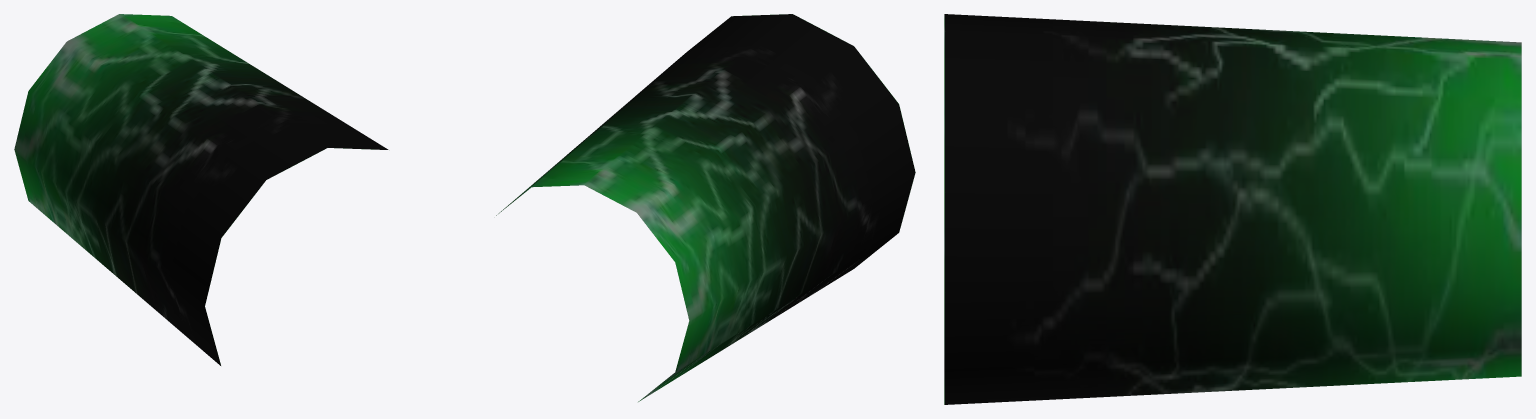
3 views of the same model, side by side, from view 1: azimuth 30°, elevation 25°; view 2: azimuth 150°, elevation 25°; view 3: azimuth 270°, elevation 25° (orthographic). The views are drawn at different scales.
Visible parts, largest first — view 1: model_Object71; view 2: model_Object71; view 3: model_Object71.
Part boxes in pixels (x1,y1,x2,y2): model_Object71: (14, 14, 388, 365); model_Object71: (496, 14, 915, 401); model_Object71: (944, 14, 1521, 404).
Bounding box in the file's own units: 1.35 × 1.35 × 1.99.
1 material, 1 textured.
